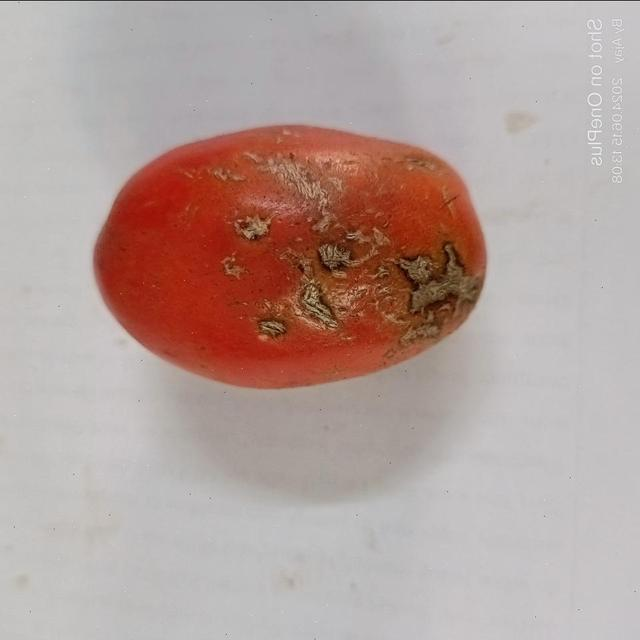Bacterial Spot Fruit: (21, 18, 286, 218)
